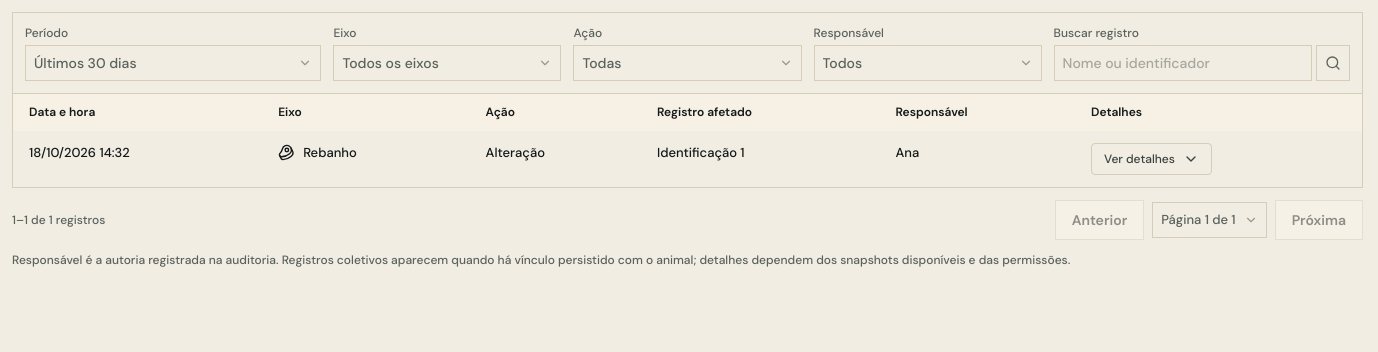
Test case: AuditoriaAnimal › período personalizado impede intervalo invertido sem enviar ao servidor
The image size is (1378, 352).
Expected: the text "Identificação 1" is shown, [641,131,879,187]
Click the dropdown named "Período" at [85, 63], box [25,45,321,81]
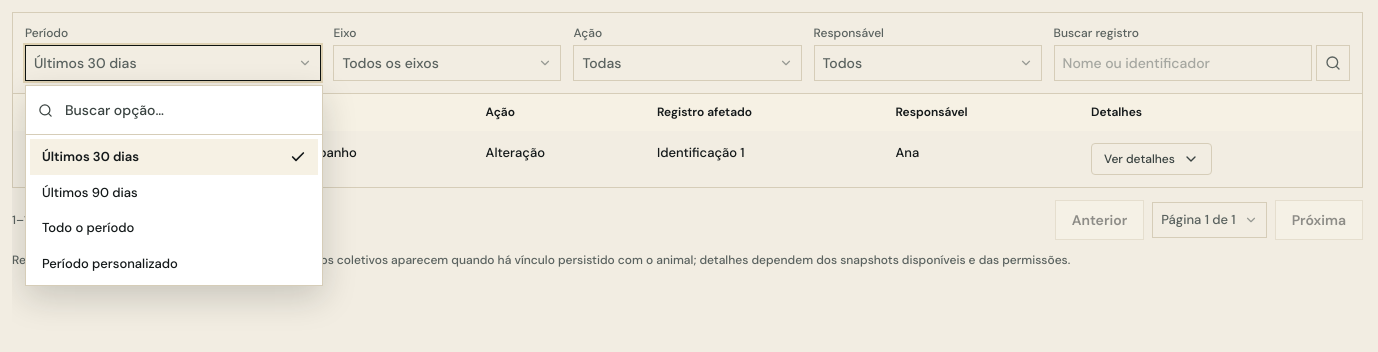
Click the option "Período personalizado" at [110, 263], box [42,254,178,272]
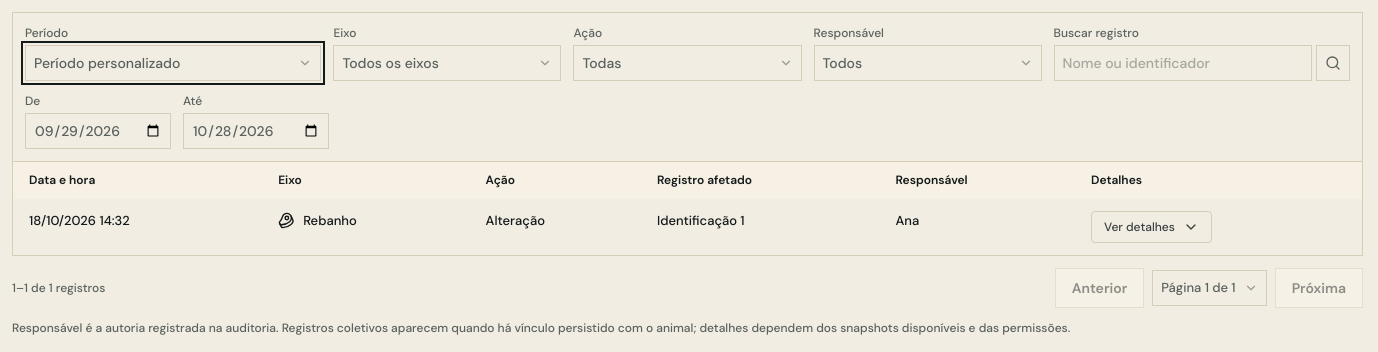
Type "2026-01-01" into the date field labelled "De" at [98, 131], box [25,113,171,149]
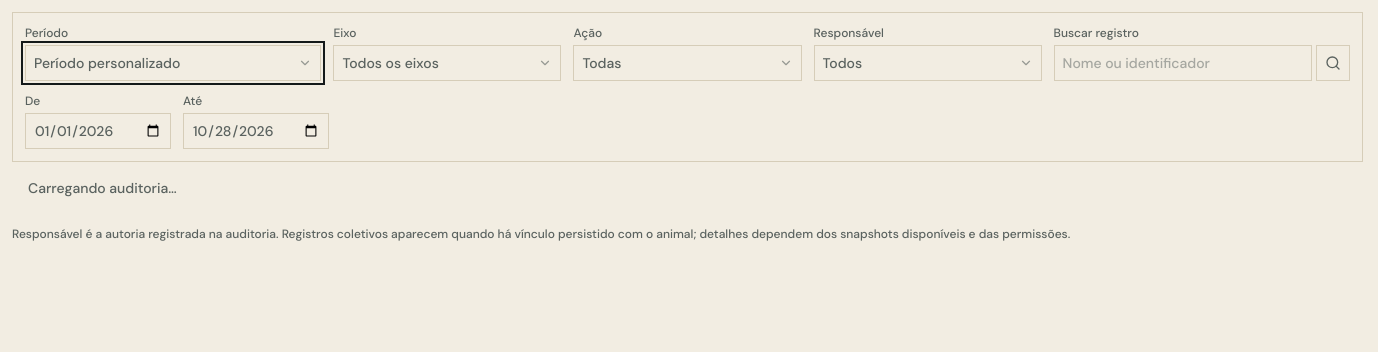
Type "2026-01-02" into the date field labelled "Até" at [256, 131], box [183,113,329,149]
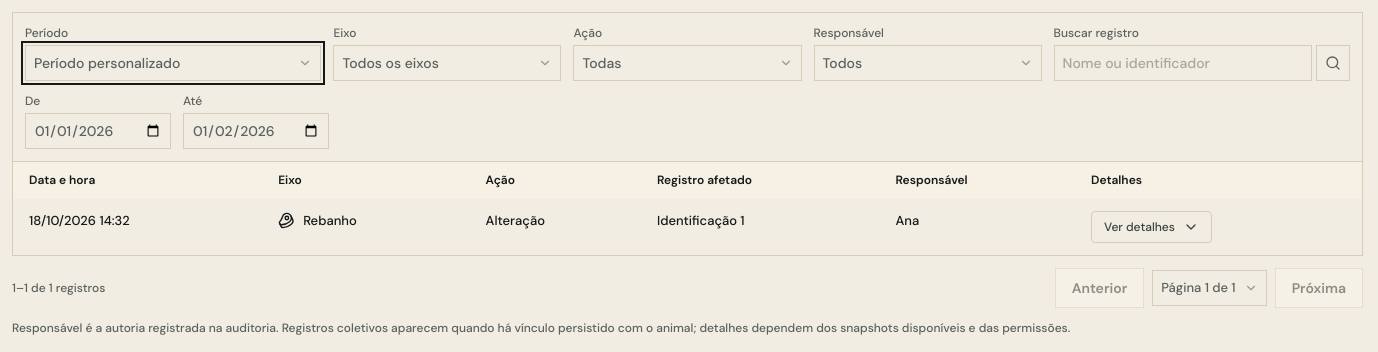
Type "2026-02-01" into the date field labelled "De" at [98, 131], box [25,113,171,149]
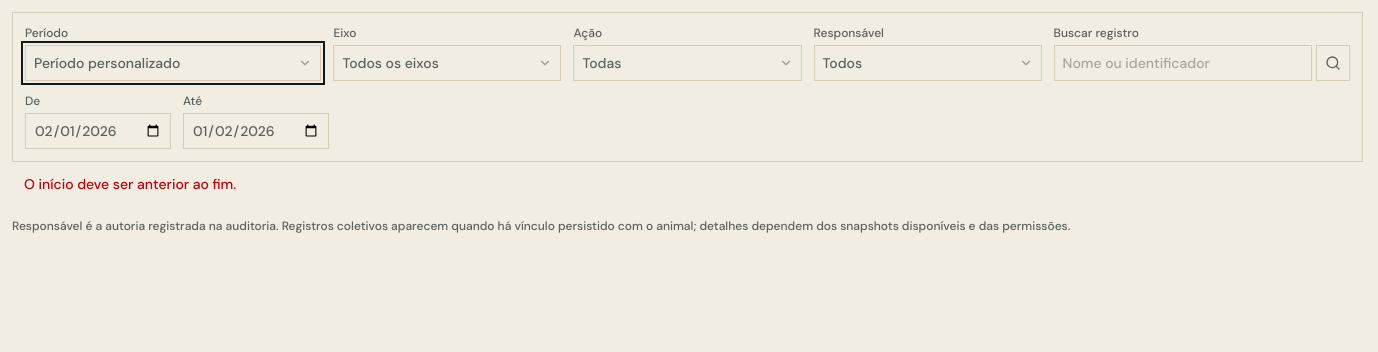
Expected: the message "O início deve ser anterior ao fim." is shown, [24,175,236,193]
